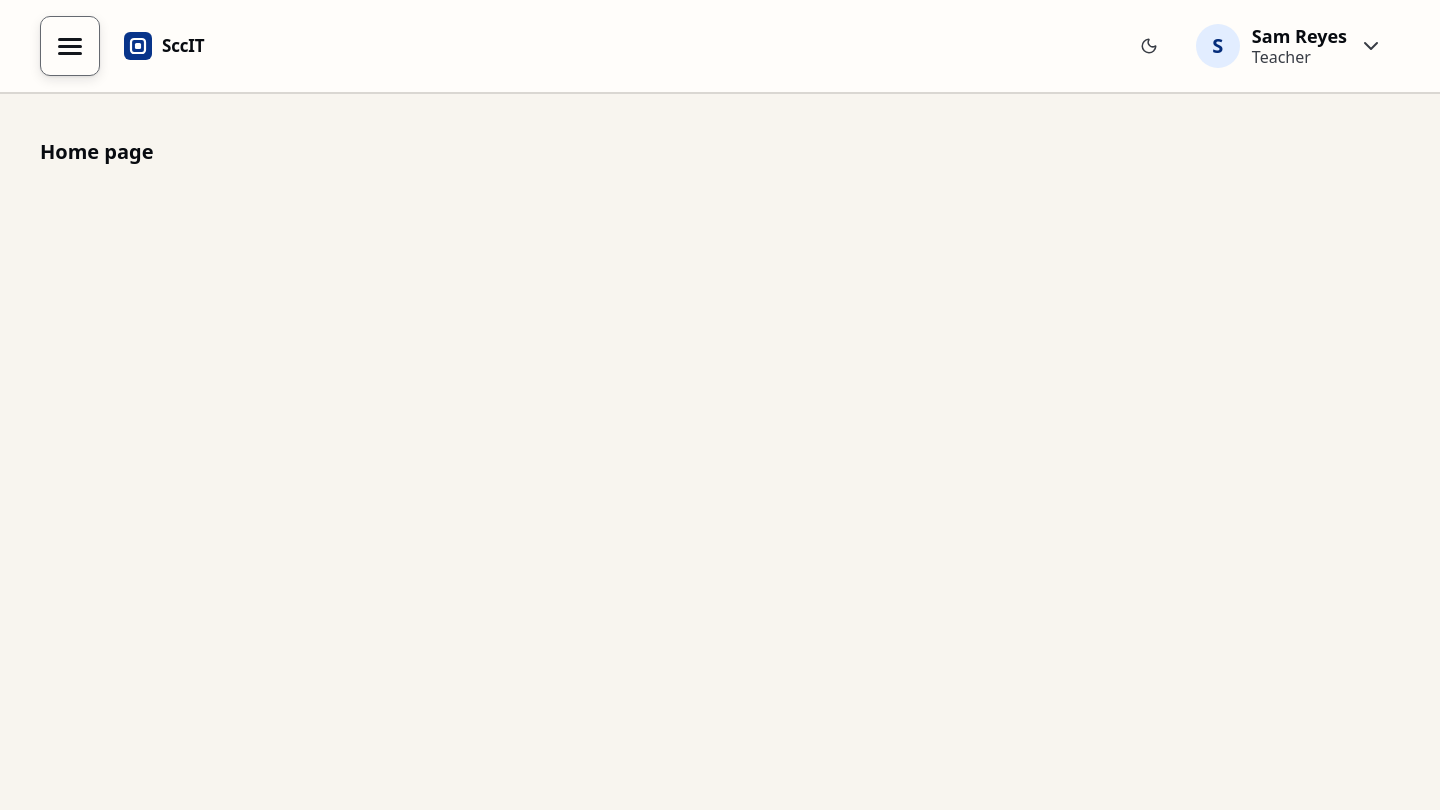
Test: opening and closing › closes when choosing the page you are already on
Click the button named "open navigation menu". click: (70, 46)
box: [40, 16, 100, 76]
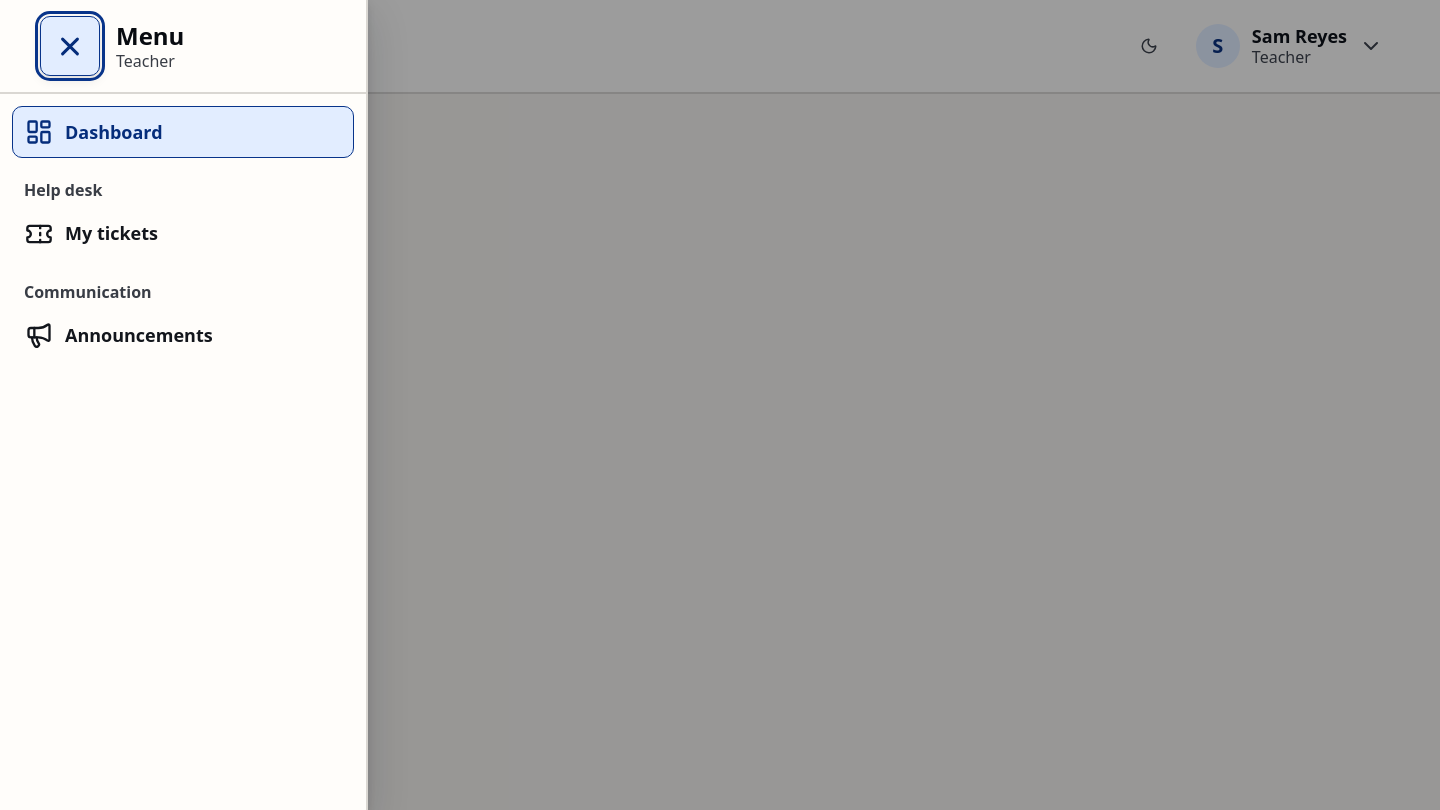
Click the link "Dashboard". click: (114, 132)
box: [12, 106, 354, 158]
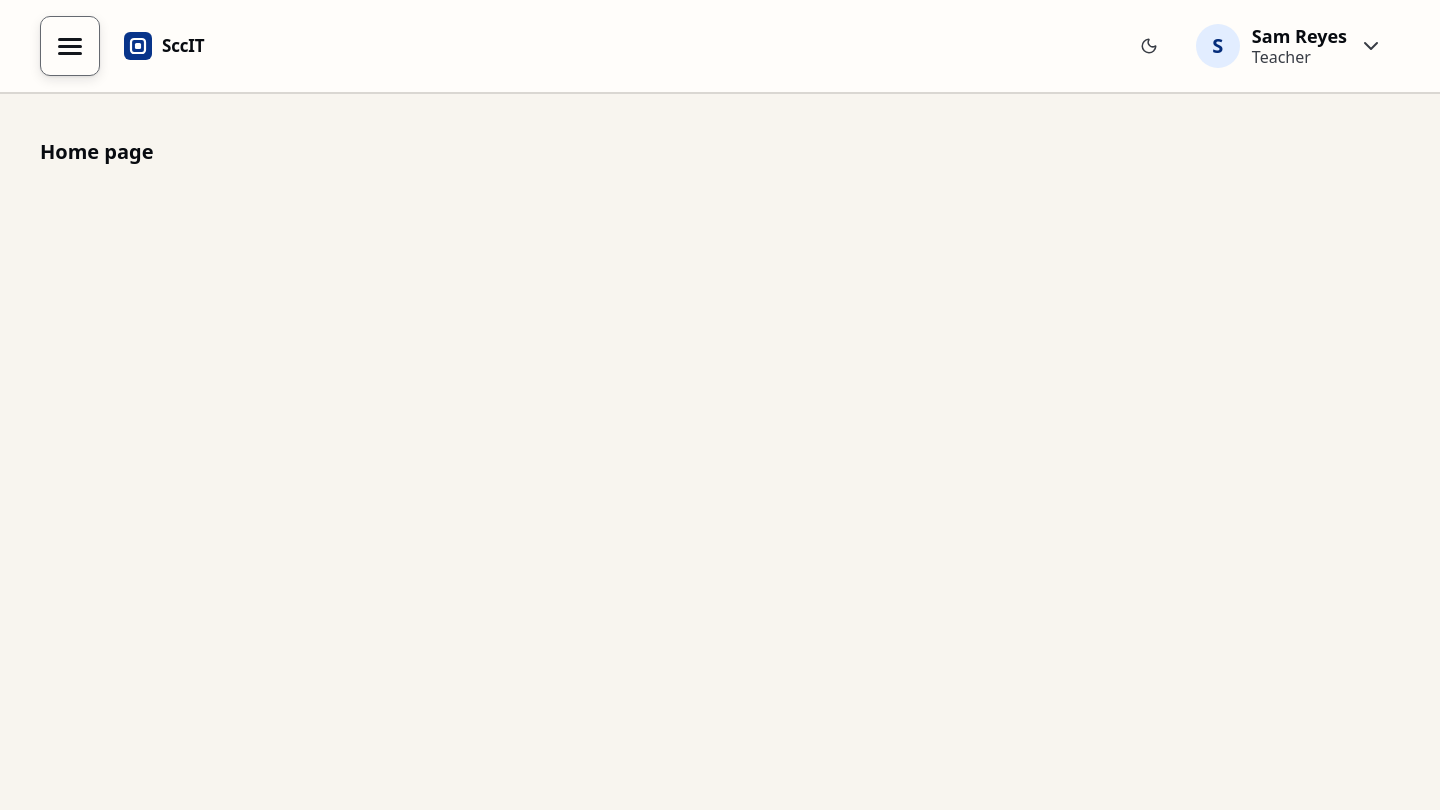
Now the button named "open navigation menu" is collapsed, box [40, 16, 100, 76]
